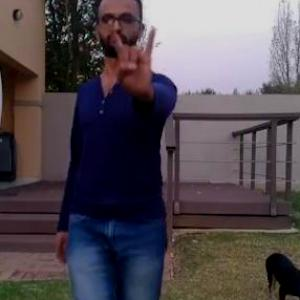takeoff-hand: (102, 17, 164, 96)
